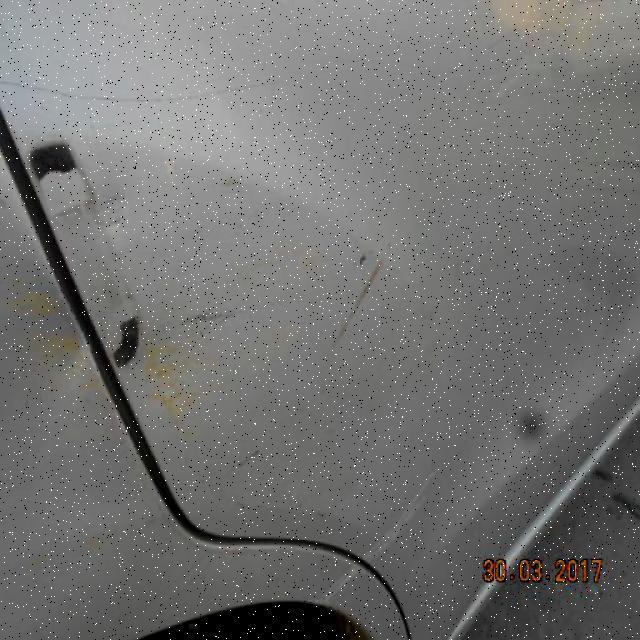car damage: (12, 139, 445, 607), (27, 132, 82, 183), (114, 308, 148, 367)
